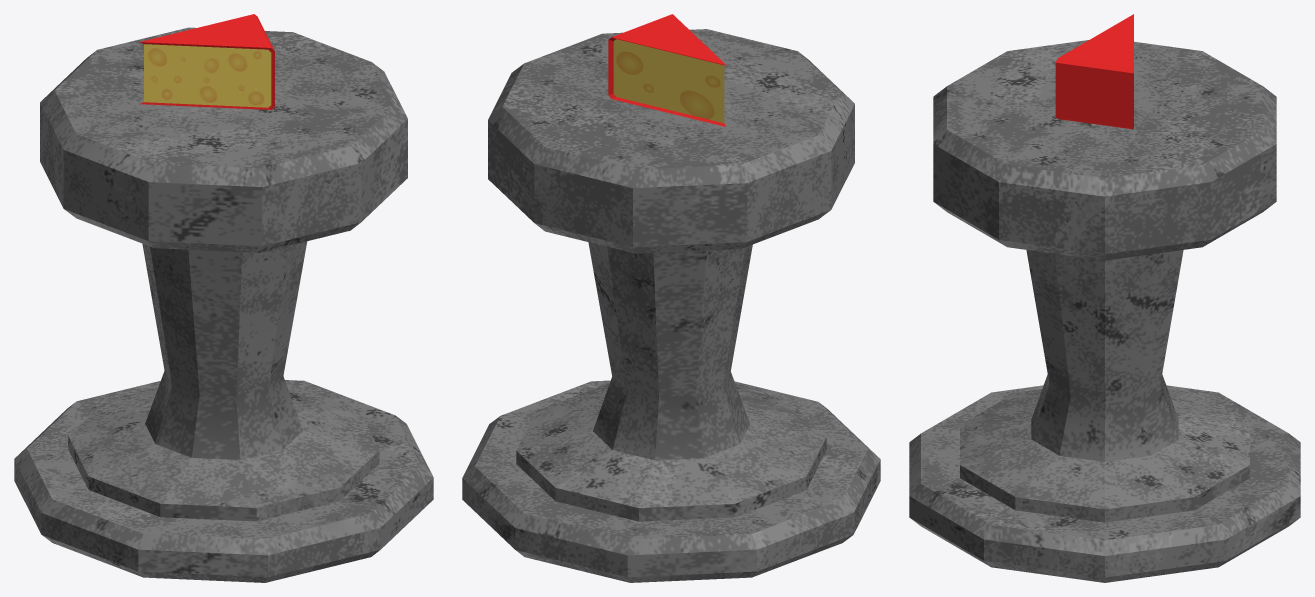
Rendered from cheesePrize1.fbx.
3 renders of one model, left to right at view 1: azimuth 30°, elevation 25°; view 2: azimuth 150°, elevation 25°; view 3: azimuth 270°, elevation 25°, orthographic. The views are drawn at different scales.
Visible parts, largest first — view 1: polySurface3; view 2: polySurface3; view 3: polySurface3.
Part boxes in pixels (<box>): polySurface3: <box>14,14,433,582</box>; polySurface3: <box>462,14,880,582</box>; polySurface3: <box>909,14,1300,582</box>.
Size of the model in its own units: 30.82 by 37.5 by 29.31.
